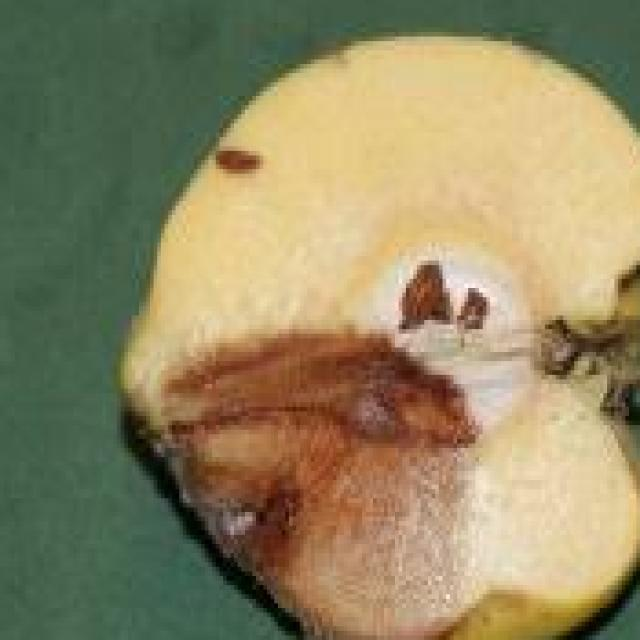inorganic: (126, 39, 615, 623)
